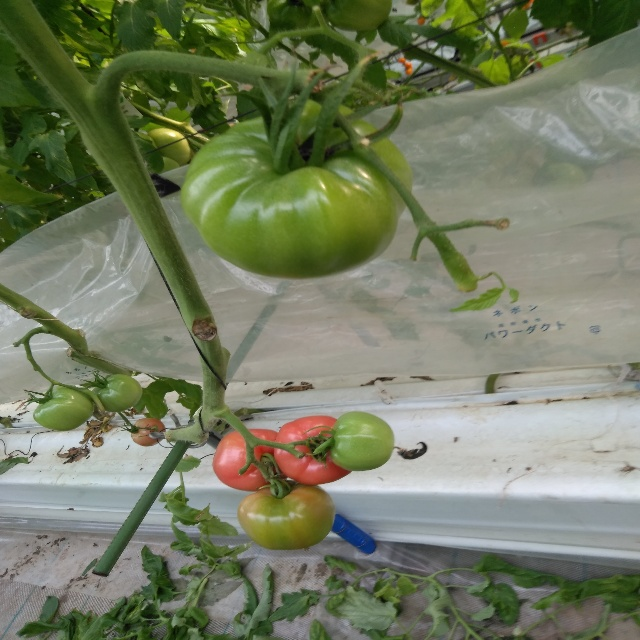b_fully_ripened: (274, 415, 353, 486), (213, 429, 287, 492)
b_green: (180, 100, 414, 279), (331, 411, 395, 471), (34, 385, 94, 431), (325, 0, 392, 32), (90, 375, 143, 412), (147, 128, 191, 167), (265, 0, 323, 29)
b_half_ripened: (237, 480, 337, 550), (130, 417, 166, 447)
